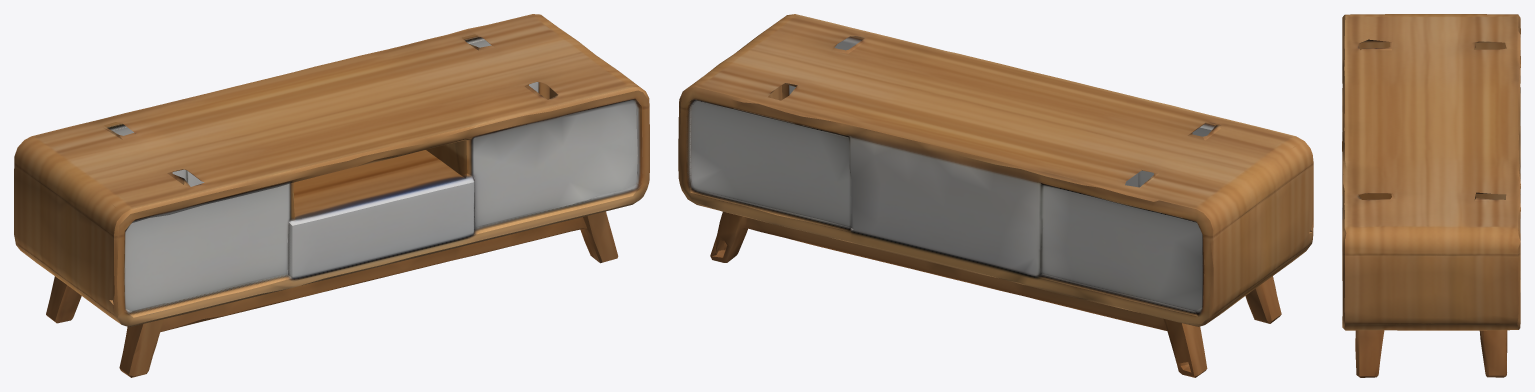
File: TvStand_Base.glb
3 renders of one model, left to right at view 1: azimuth 30°, elevation 25°; view 2: azimuth 150°, elevation 25°; view 3: azimuth 270°, elevation 25°, orthographic. The views are drawn at different scales.
Parts seen in each view (by area): view 1: TvStand_Base; view 2: TvStand_Base; view 3: TvStand_Base.
Part boxes in pixels (x1,y1,x2,y2): TvStand_Base: [14, 14, 649, 377]; TvStand_Base: [678, 14, 1313, 377]; TvStand_Base: [1342, 14, 1520, 377].
Size of the model in its own units: 1.2 by 0.3887 by 0.4.
Materials: 1 (1 with a texture image).
